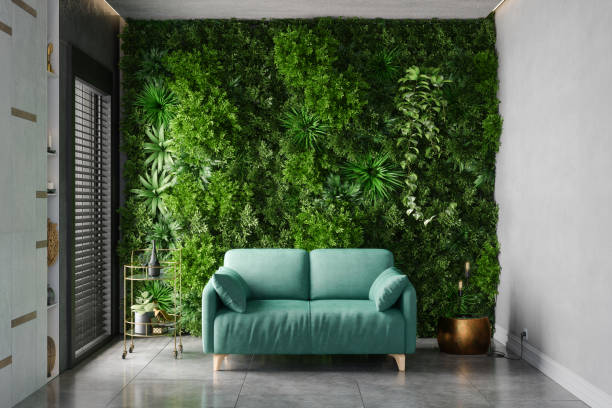sofa: (198, 243, 419, 375)
